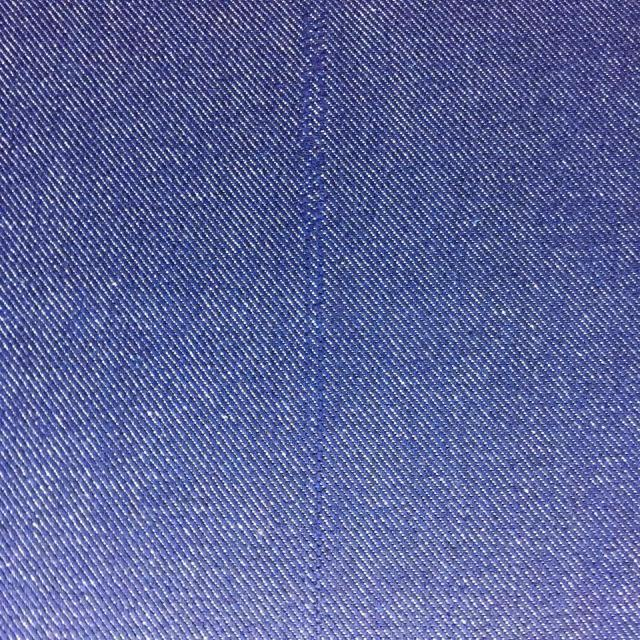Line: (299, 0, 329, 640)
